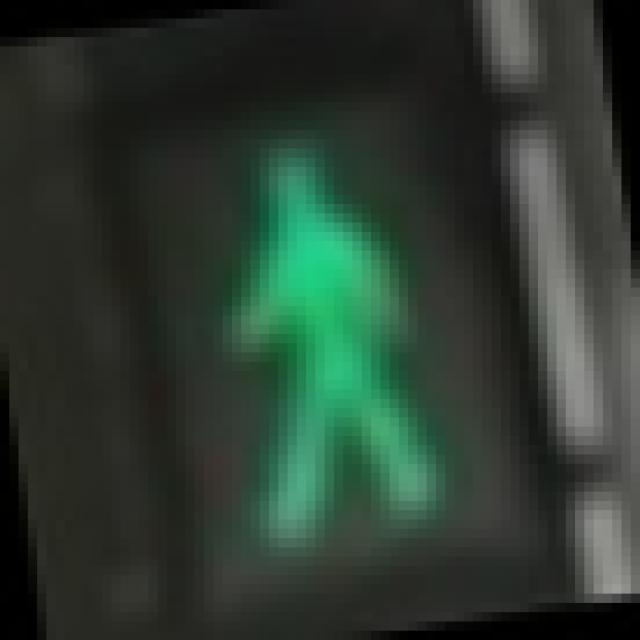green-light: (159, 84, 456, 539)
